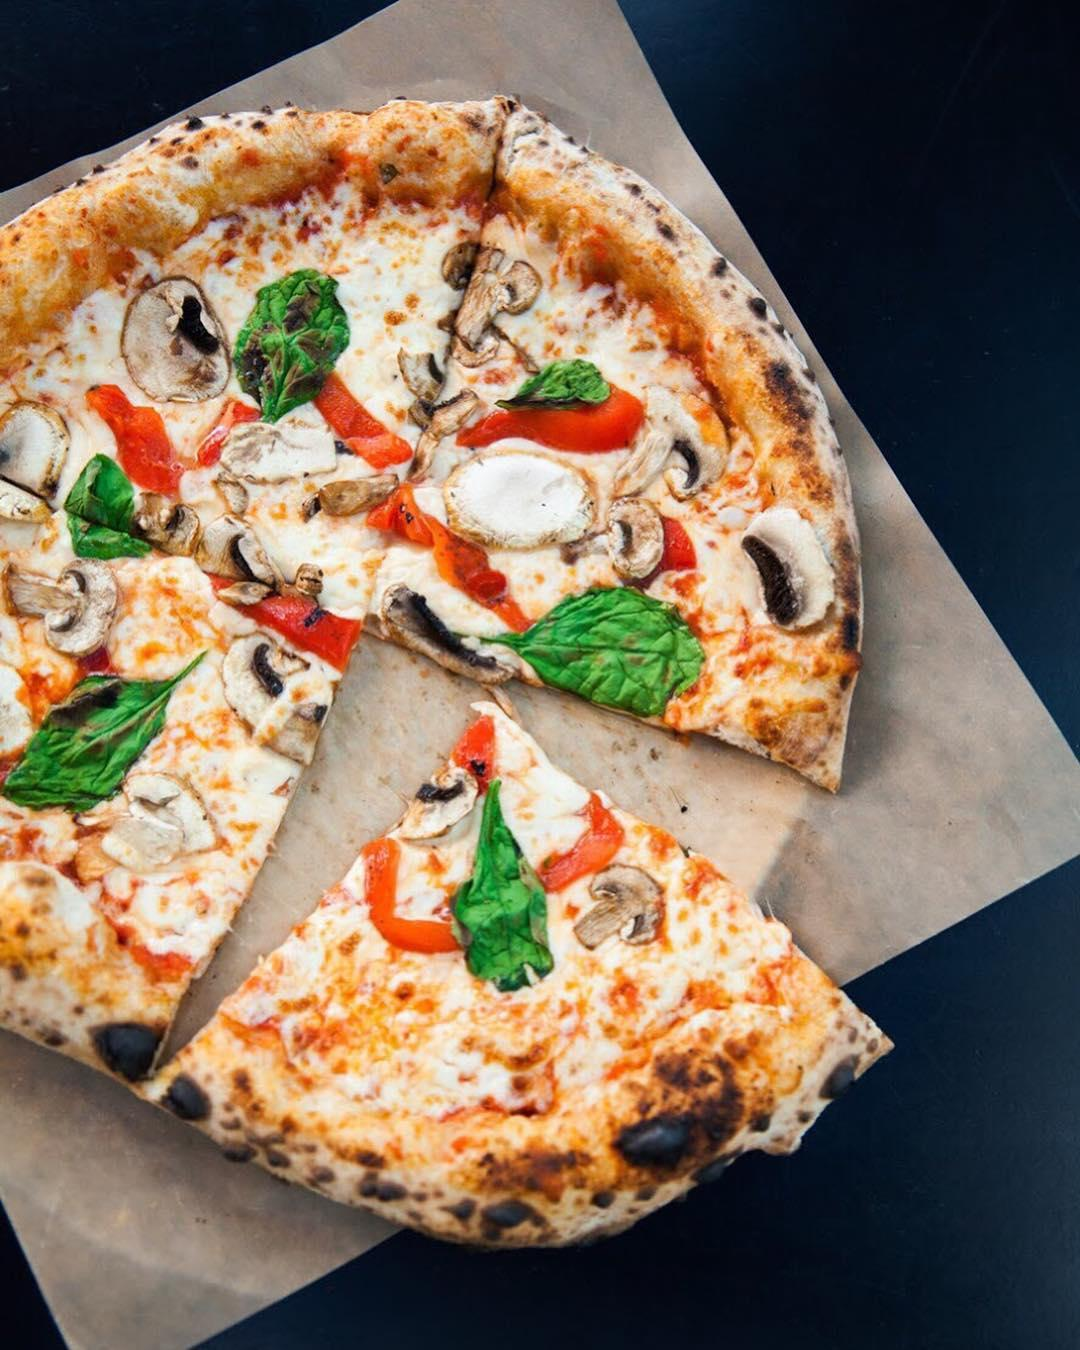Basil: (474, 591, 714, 714), (8, 650, 181, 818), (457, 791, 563, 1002), (235, 271, 352, 407), (61, 444, 143, 562)
Mushroom: (212, 523, 342, 717), (395, 237, 527, 424), (214, 407, 381, 525), (727, 505, 856, 637), (121, 261, 236, 404), (447, 461, 603, 544), (1, 555, 115, 645), (641, 391, 727, 495), (587, 861, 665, 959)
Peppers: (360, 493, 525, 612), (277, 355, 434, 464), (91, 361, 194, 515), (363, 833, 454, 944), (548, 381, 636, 442)
Pizza: (1, 108, 887, 1255)
